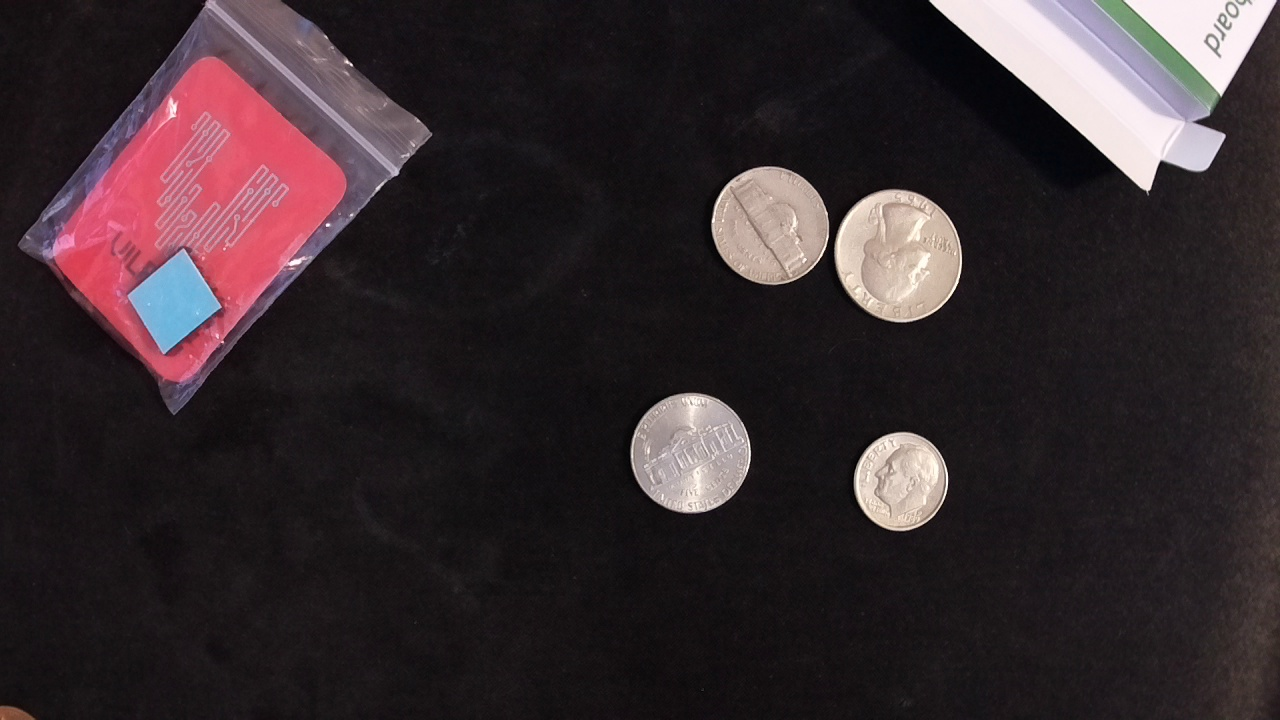dime: (850, 427, 952, 537)
nickel: (624, 386, 754, 520), (708, 161, 832, 291)
quarter: (832, 186, 966, 328)
